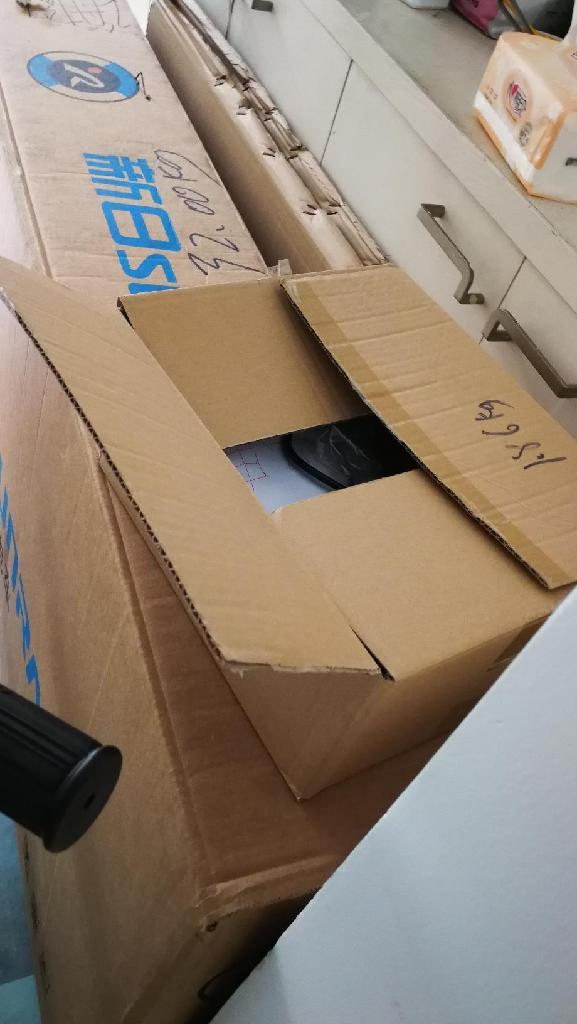cardboard: (0, 3, 576, 799), (150, 0, 576, 421)
